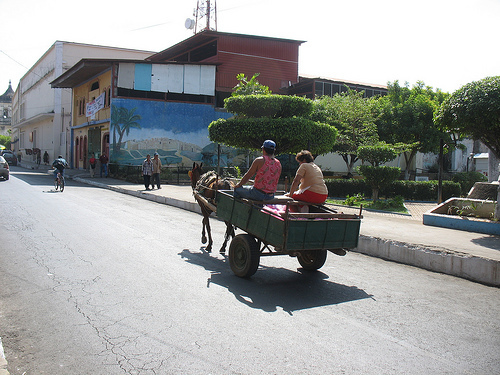horse: (185, 159, 237, 256)
